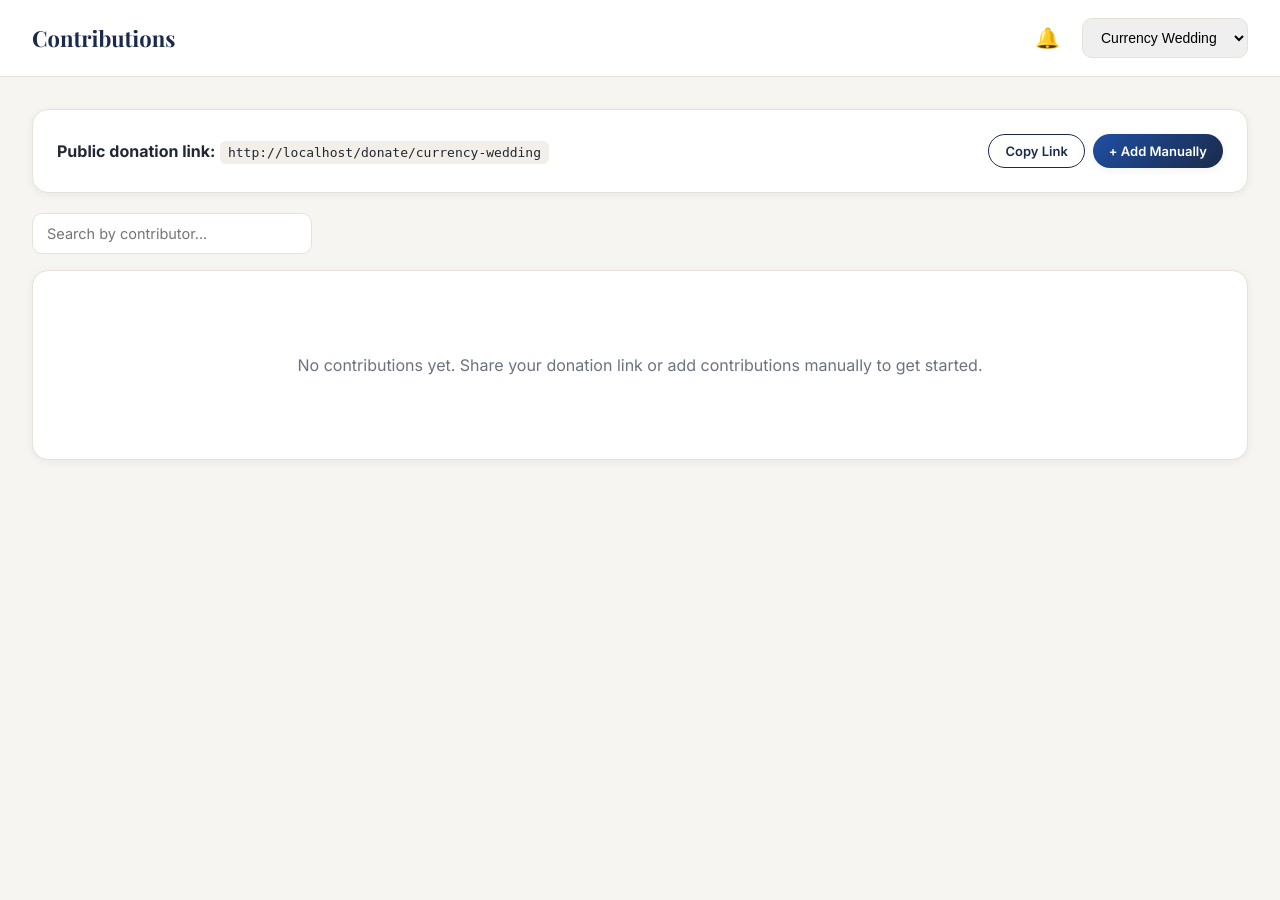
it: recurring and contribution currency controls › defaults the manual contribution selector to base currency
Click the button "+ Add Manually" at (1158, 151), box [1093, 134, 1223, 168]
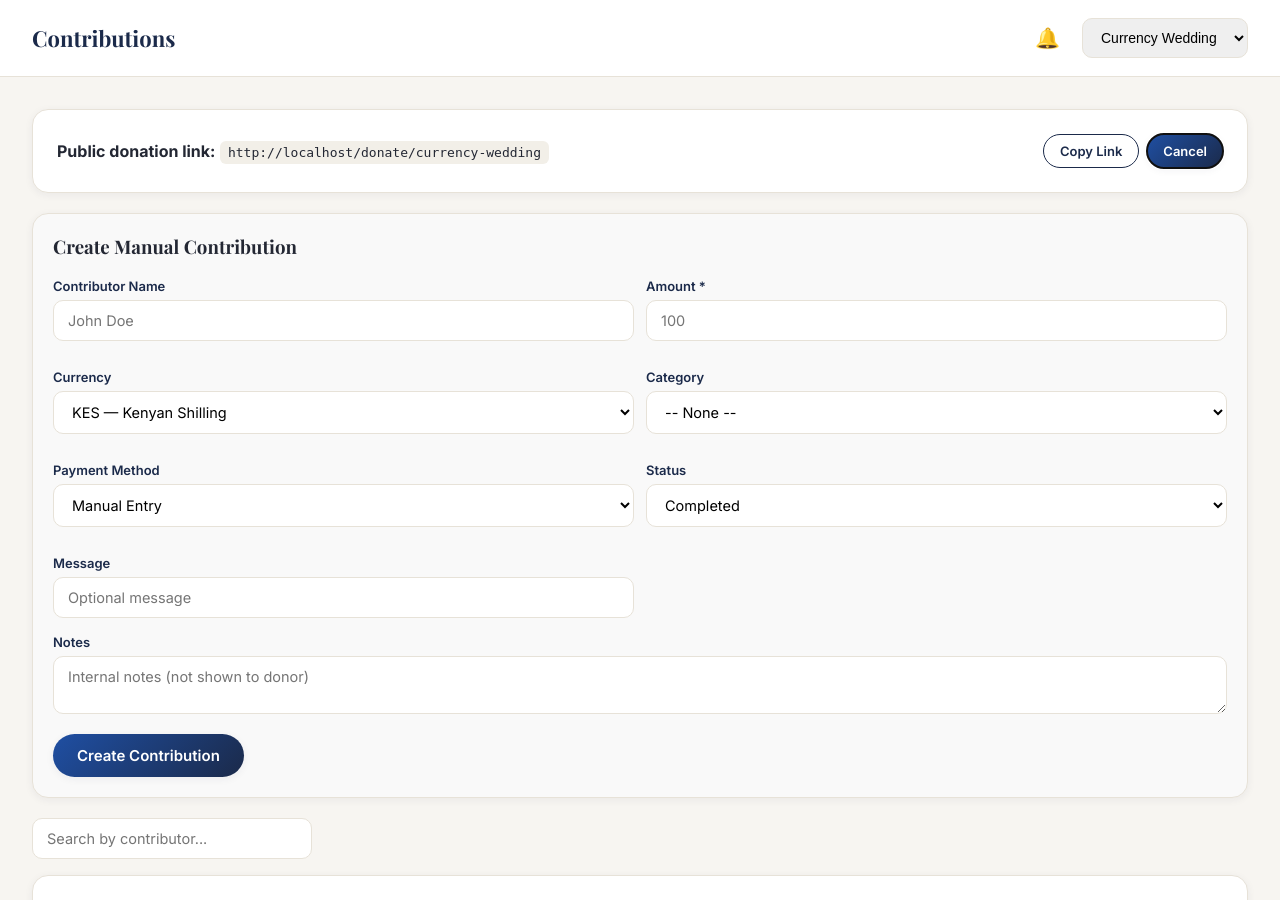
Expected: the dropdown labelled "Currency" shows "KES — Kenyan Shilling", [53, 391, 634, 434]
